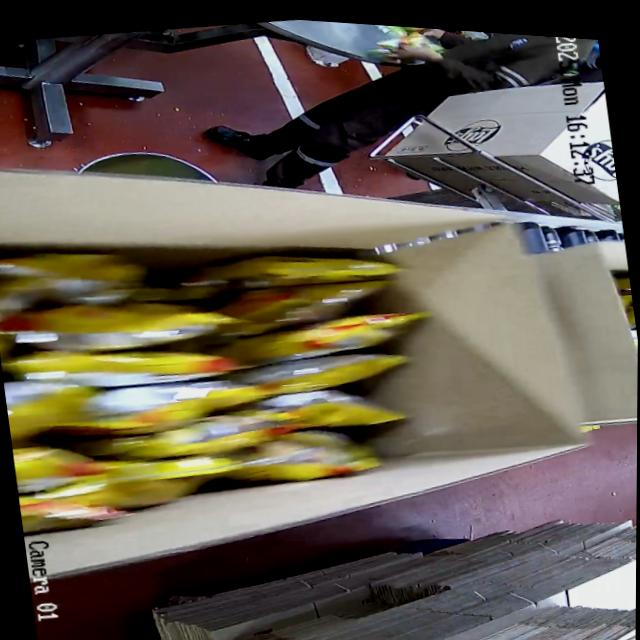SALTED: (0, 203, 452, 572)
